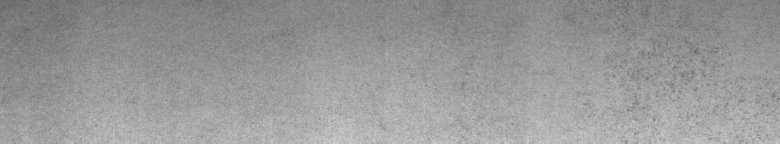ib: (624, 44, 700, 136)
